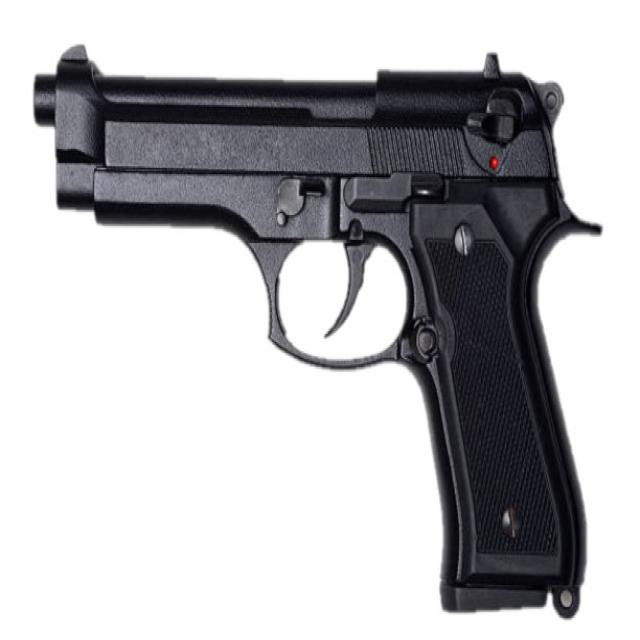pistol: (24, 37, 612, 622)
